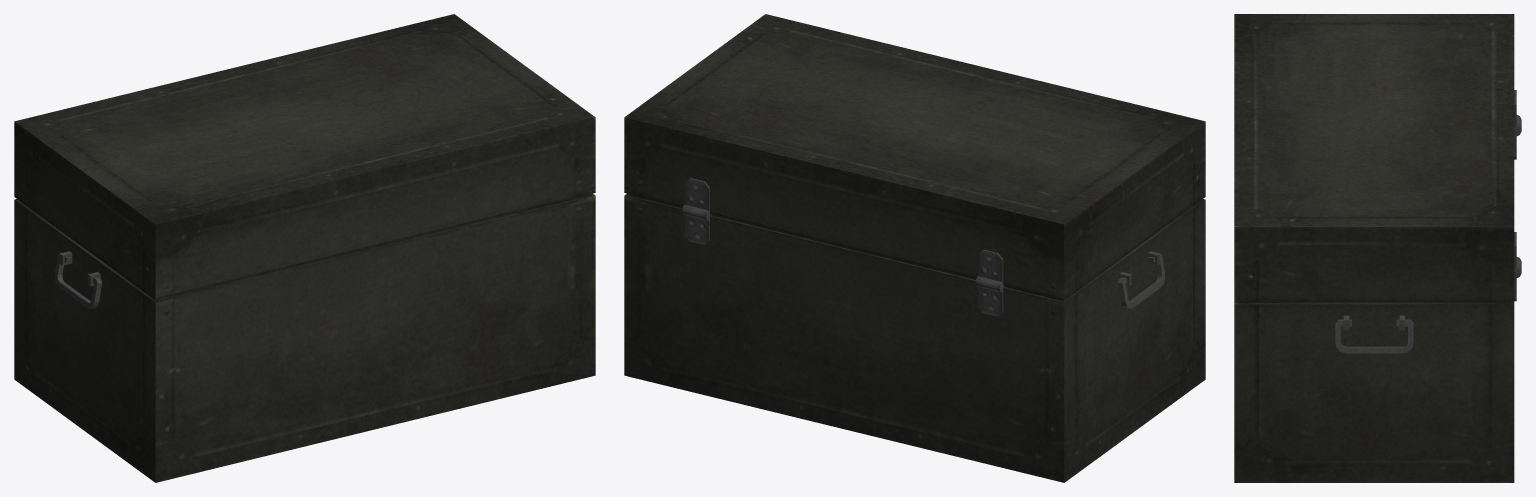
Rendered from wooden_crate_2_b.obj.
The picture shows the model from 3 angles, left to right: view 1: azimuth 30°, elevation 25°; view 2: azimuth 150°, elevation 25°; view 3: azimuth 270°, elevation 25°; orthographic projection.
Visible parts, largest first — view 1: wooden_crate_2_b, wooden_crate_2_b_lid; view 2: wooden_crate_2_b, wooden_crate_2_b_lid; view 3: wooden_crate_2_b_lid, wooden_crate_2_b.
Boxes of the visible parts, x1,y1,x2,y2 form: wooden_crate_2_b: [14, 193, 595, 482]; wooden_crate_2_b_lid: [14, 14, 595, 300]; wooden_crate_2_b: [624, 193, 1205, 482]; wooden_crate_2_b_lid: [624, 14, 1205, 300]; wooden_crate_2_b_lid: [1234, 14, 1516, 303]; wooden_crate_2_b: [1234, 115, 1521, 482].
Size of the model in its own units: 0.9492 by 0.505 by 0.513.
